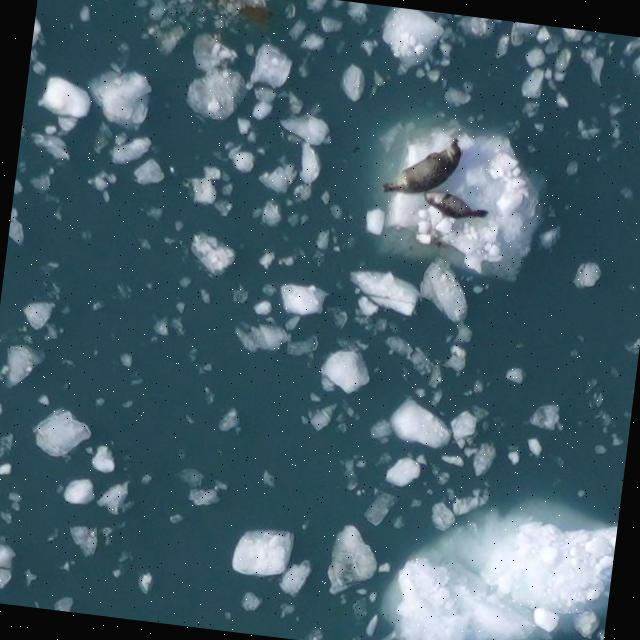seal: (373, 136, 472, 211), (420, 183, 486, 230)
